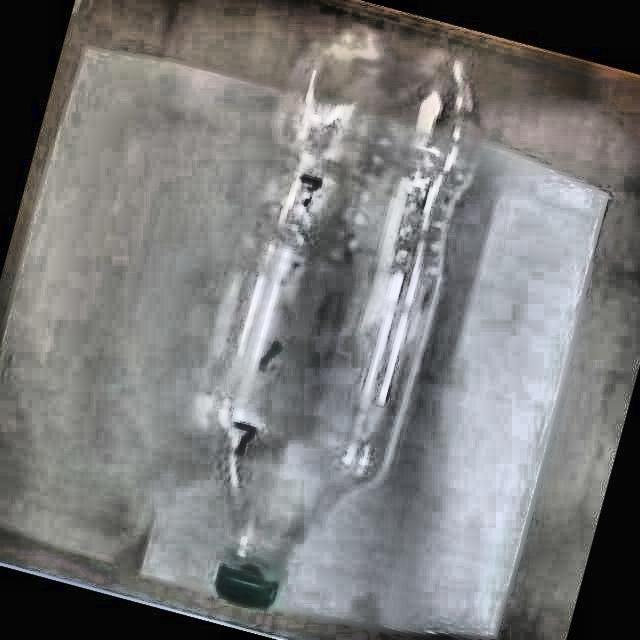plastic bottle: (209, 30, 478, 609)
